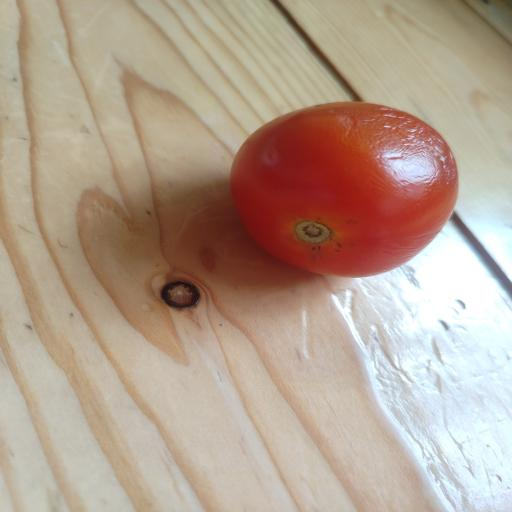spoiled: (231, 102, 458, 277)
